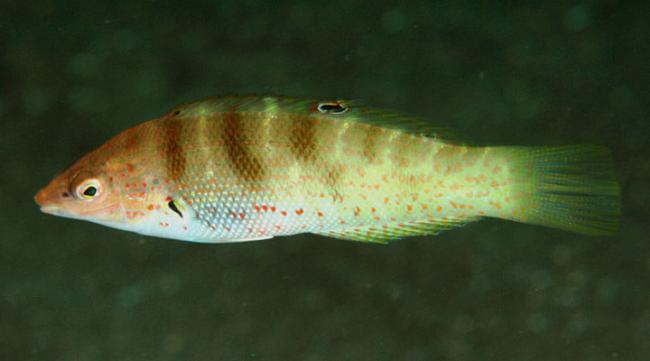fish: (34, 94, 622, 245)
